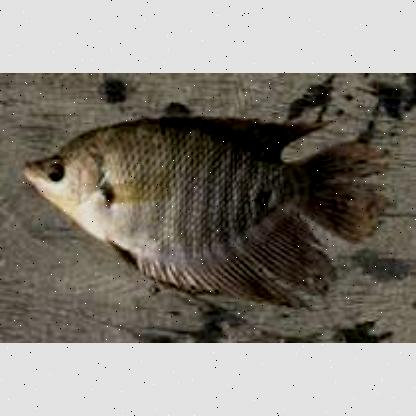gurame: (20, 117, 378, 301)
